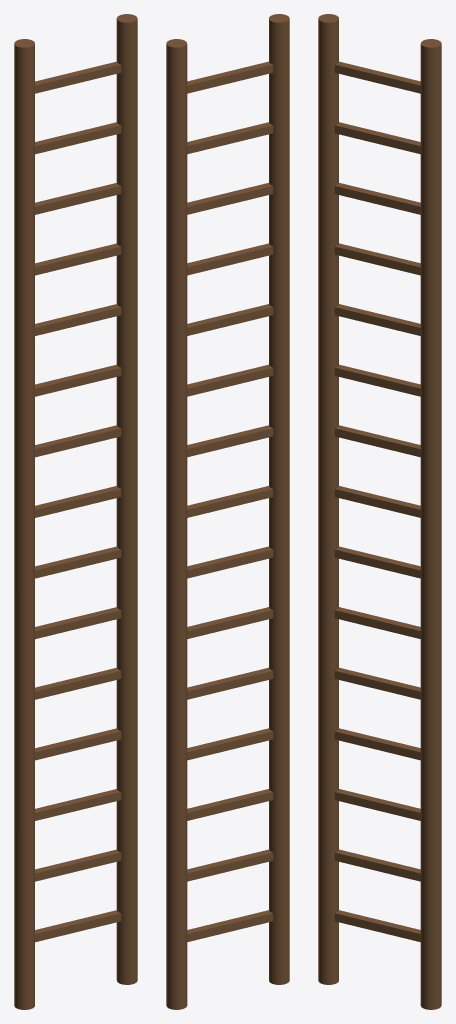
File: drabina.fbx
The picture shows the model from 3 angles, left to right: view 1: azimuth 30°, elevation 25°; view 2: azimuth 210°, elevation 25°; view 3: azimuth 330°, elevation 25°; orthographic projection.
Parts seen in each view (by area): view 1: drabina_LOD0; view 2: drabina_LOD0; view 3: drabina_LOD0.
Part boxes in pixels (<box>): drabina_LOD0: <box>14,14,137,1009</box>; drabina_LOD0: <box>166,14,289,1009</box>; drabina_LOD0: <box>318,14,441,1009</box>.
Size of what is drawn, in the model's own units: 1.3 by 9.96 by 0.196.
